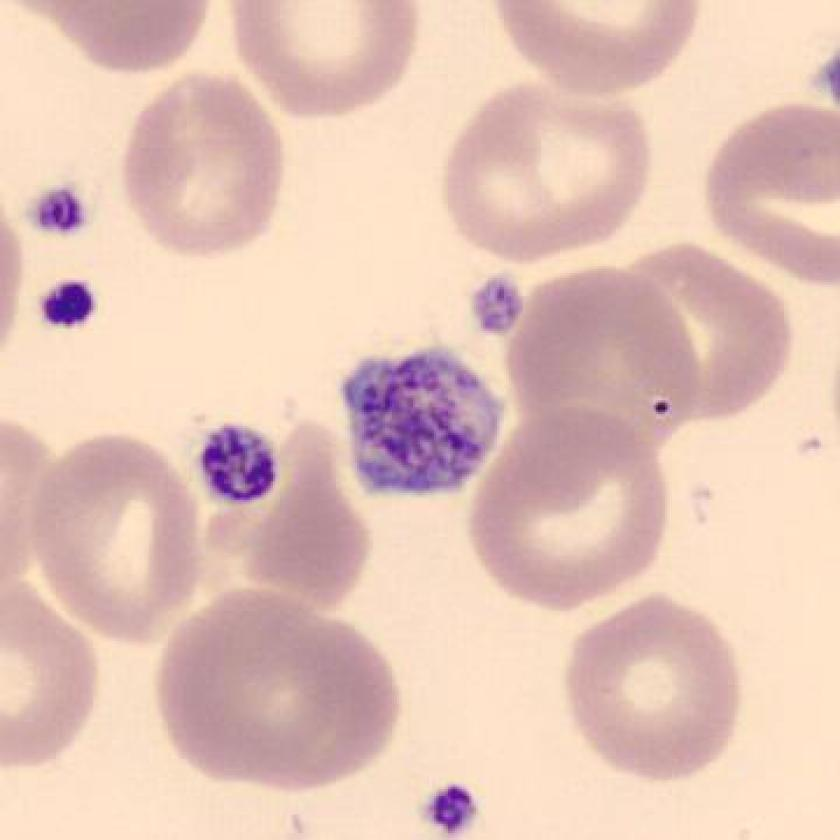platelets: (328, 344, 512, 506), (195, 418, 283, 513), (465, 272, 538, 343), (34, 272, 106, 341), (22, 177, 94, 246), (421, 774, 477, 840)
